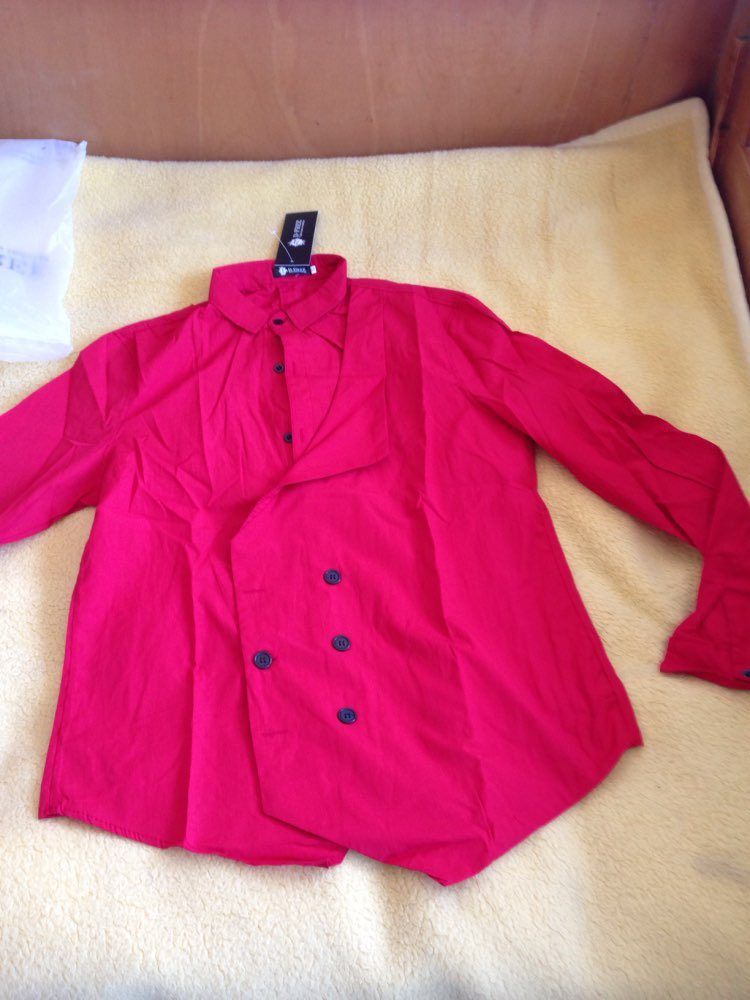shirts: (43, 258, 737, 873)
